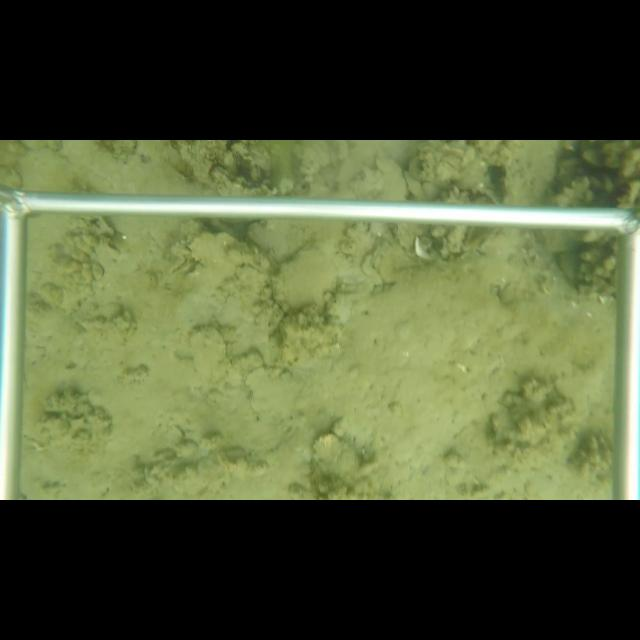Oyster-Closed: (268, 242, 340, 317), (241, 366, 308, 438), (310, 430, 366, 492), (188, 324, 229, 404), (187, 231, 252, 268)
